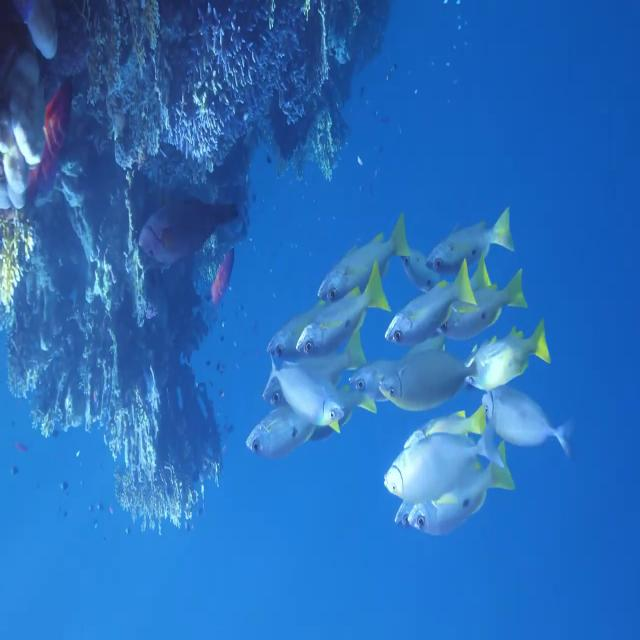fish: (406, 430, 518, 546), (384, 420, 503, 510), (297, 268, 390, 378), (259, 350, 353, 450), (318, 221, 412, 321), (419, 200, 524, 288), (389, 258, 483, 352), (375, 346, 488, 422), (484, 382, 580, 470), (432, 284, 527, 358), (466, 322, 552, 397), (244, 398, 318, 478), (264, 306, 314, 376)
